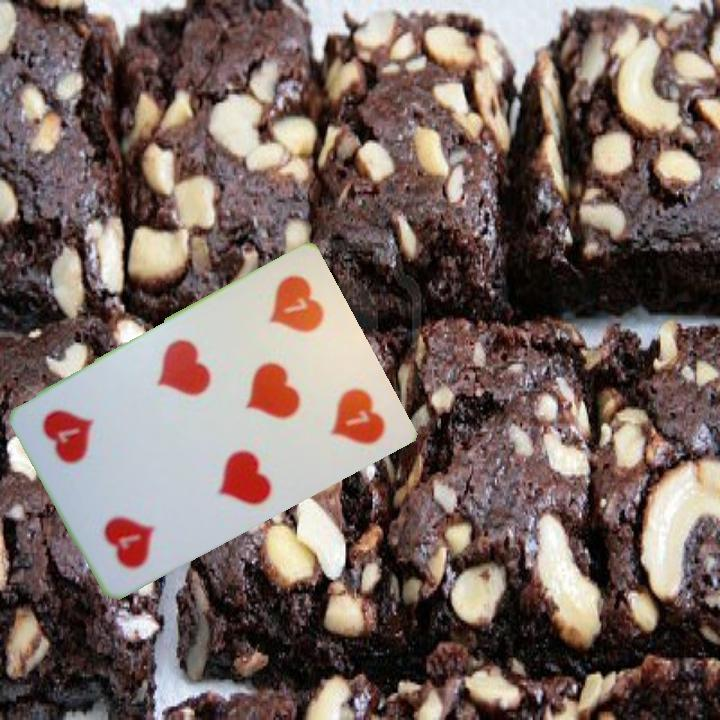h_7.png: (68, 456, 189, 583), (231, 262, 352, 388)
